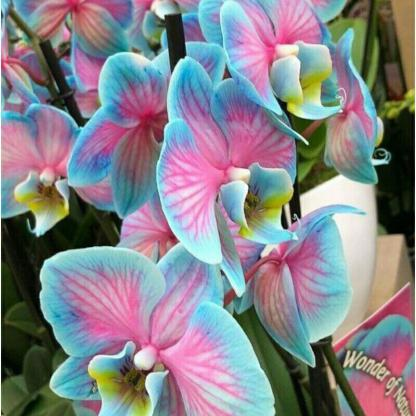ANGGREK: (47, 23, 387, 399)
